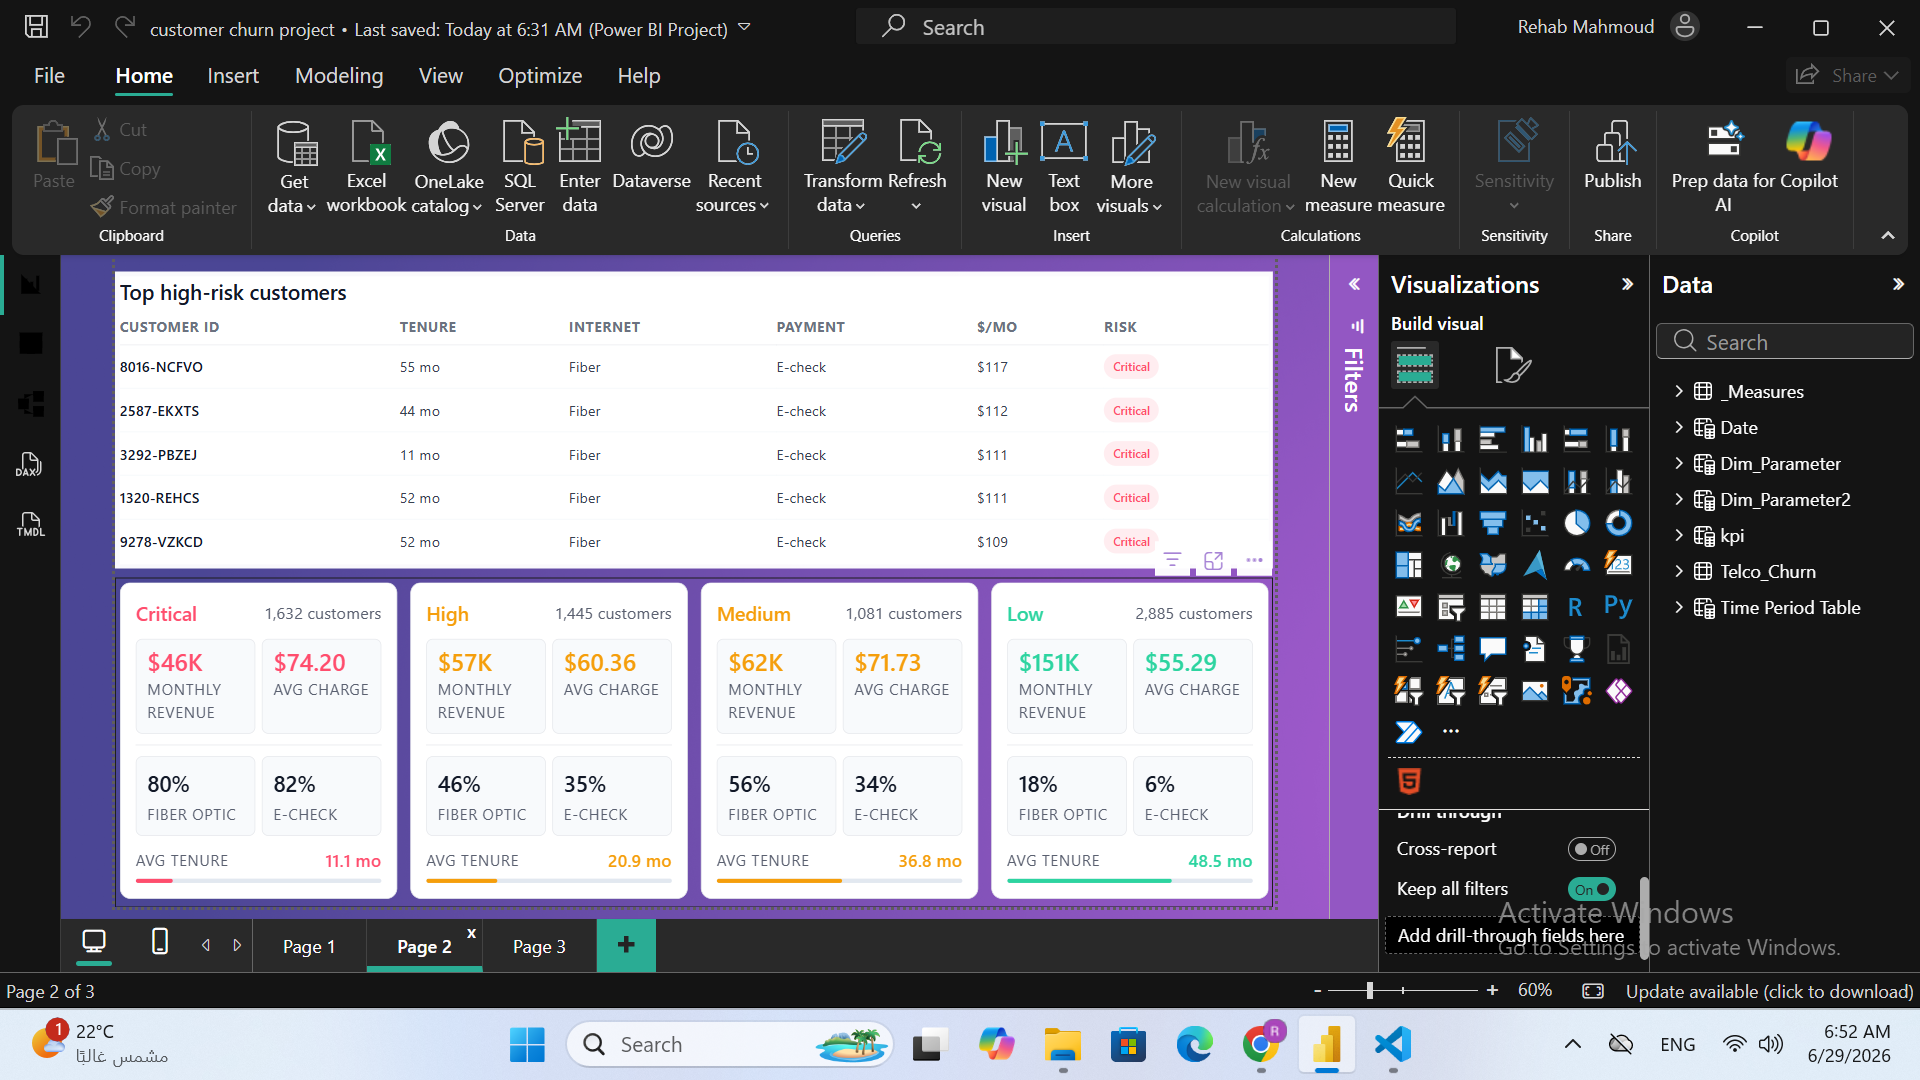

The page's visual inventory and layout, read from the dashboard file:
{"tool":"powerbi","page":{"name":"Page 2","canvas":[1280,720],"ordinal":1},"visuals":[{"type":"htmlContent443BE3AD55E043BF878BED274D3A6855","fields":{"content":["_Measures.Top Risk Customers HTML"]},"box":[0,18.2,1278.8,328],"z":0},{"type":"htmlContent443BE3AD55E043BF878BED274D3A6855","fields":{"content":["_Measures.Risk Cards HTML"]},"box":[0,356.1,1278.8,364.4],"z":1}]}

Visuals, with their boxes on the page's 1280x720 design canvas (x1, y1, x2, y2). These are canvas units, not pixel positions in the 1920x1080 screenshot, which may show the page scaled, cropped or inside an application window:
htmlContent443BE3AD55E043BF878BED274D3A6855 - _Measures.Top Risk Customers HTML: [0, 18, 1279, 346]
htmlContent443BE3AD55E043BF878BED274D3A6855 - _Measures.Risk Cards HTML: [0, 356, 1279, 720]
